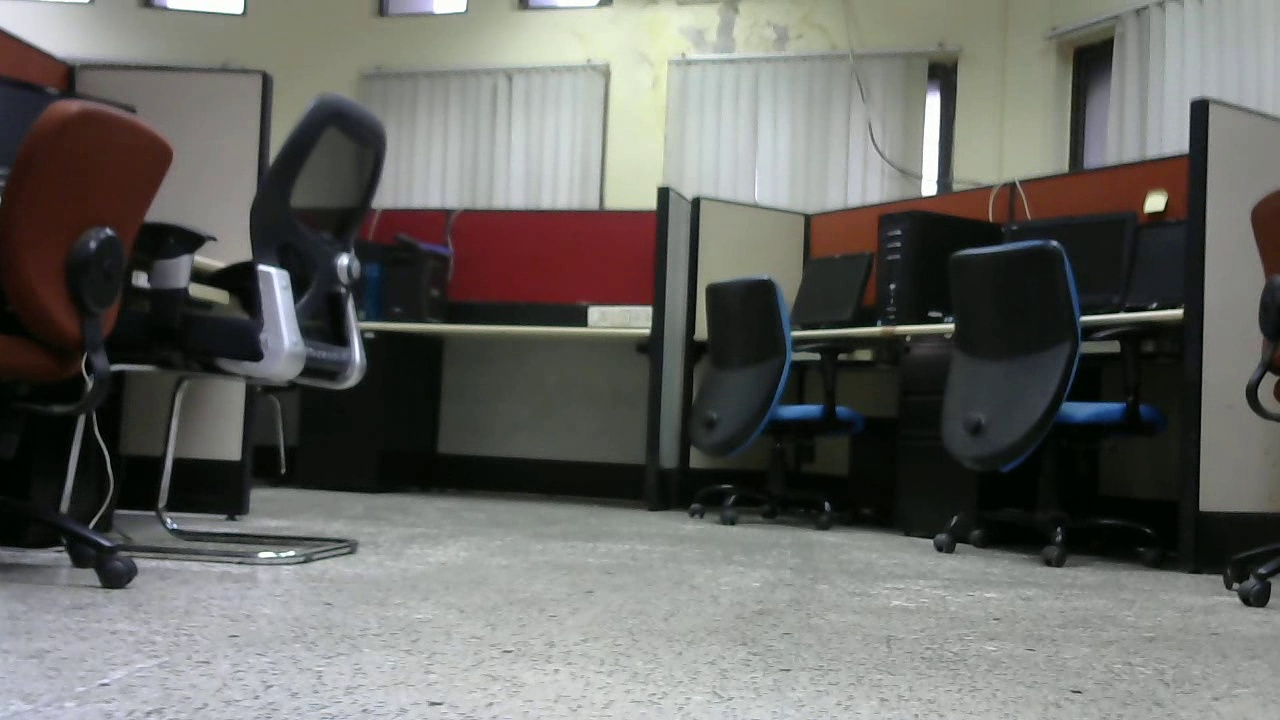chair: (101, 81, 398, 563), (900, 227, 1162, 569), (644, 261, 871, 531)
